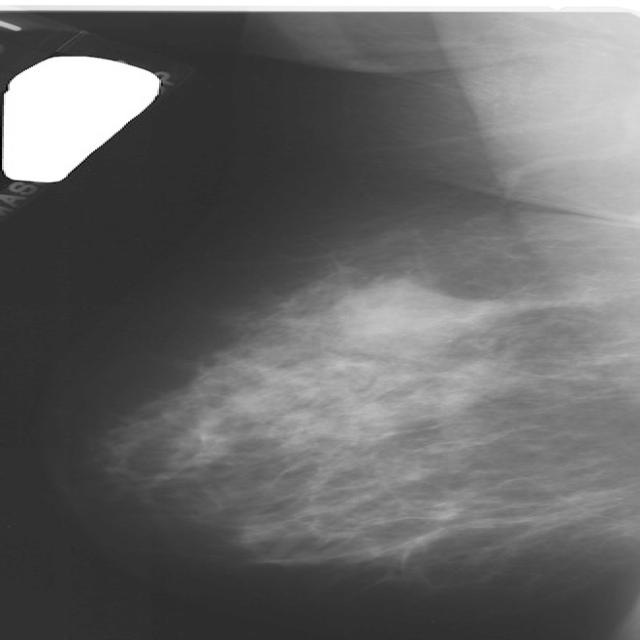tumour: (330, 277, 490, 342)
